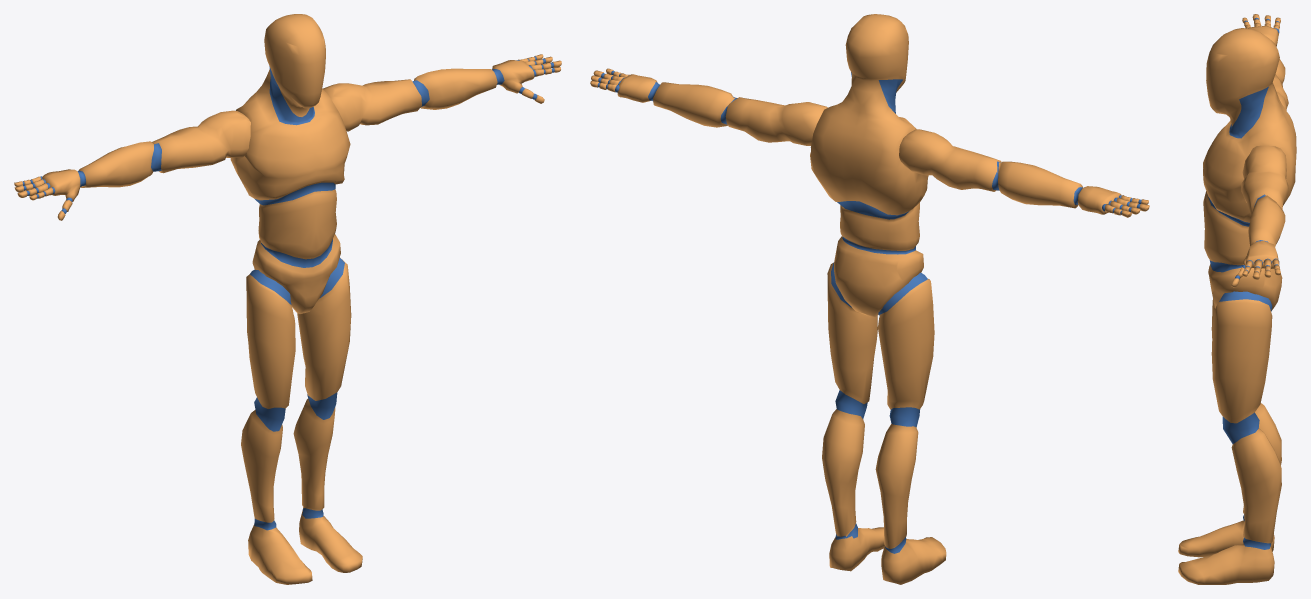
Rendered from human.glb.
3 renders of one model, left to right at view 1: azimuth 30°, elevation 25°; view 2: azimuth 150°, elevation 25°; view 3: azimuth 270°, elevation 25°, orthographic. The views are drawn at different scales.
Visible parts, largest first — view 1: Mannequin; view 2: Mannequin; view 3: Mannequin.
Part boxes in pixels (bbox=[...]): Mannequin: bbox=[14, 14, 561, 584]; Mannequin: bbox=[590, 14, 1149, 584]; Mannequin: bbox=[1178, 14, 1296, 584].
Size of the model in its own units: 1.93 by 1.83 by 0.3696.
Materials: 1 (1 with a texture image).
